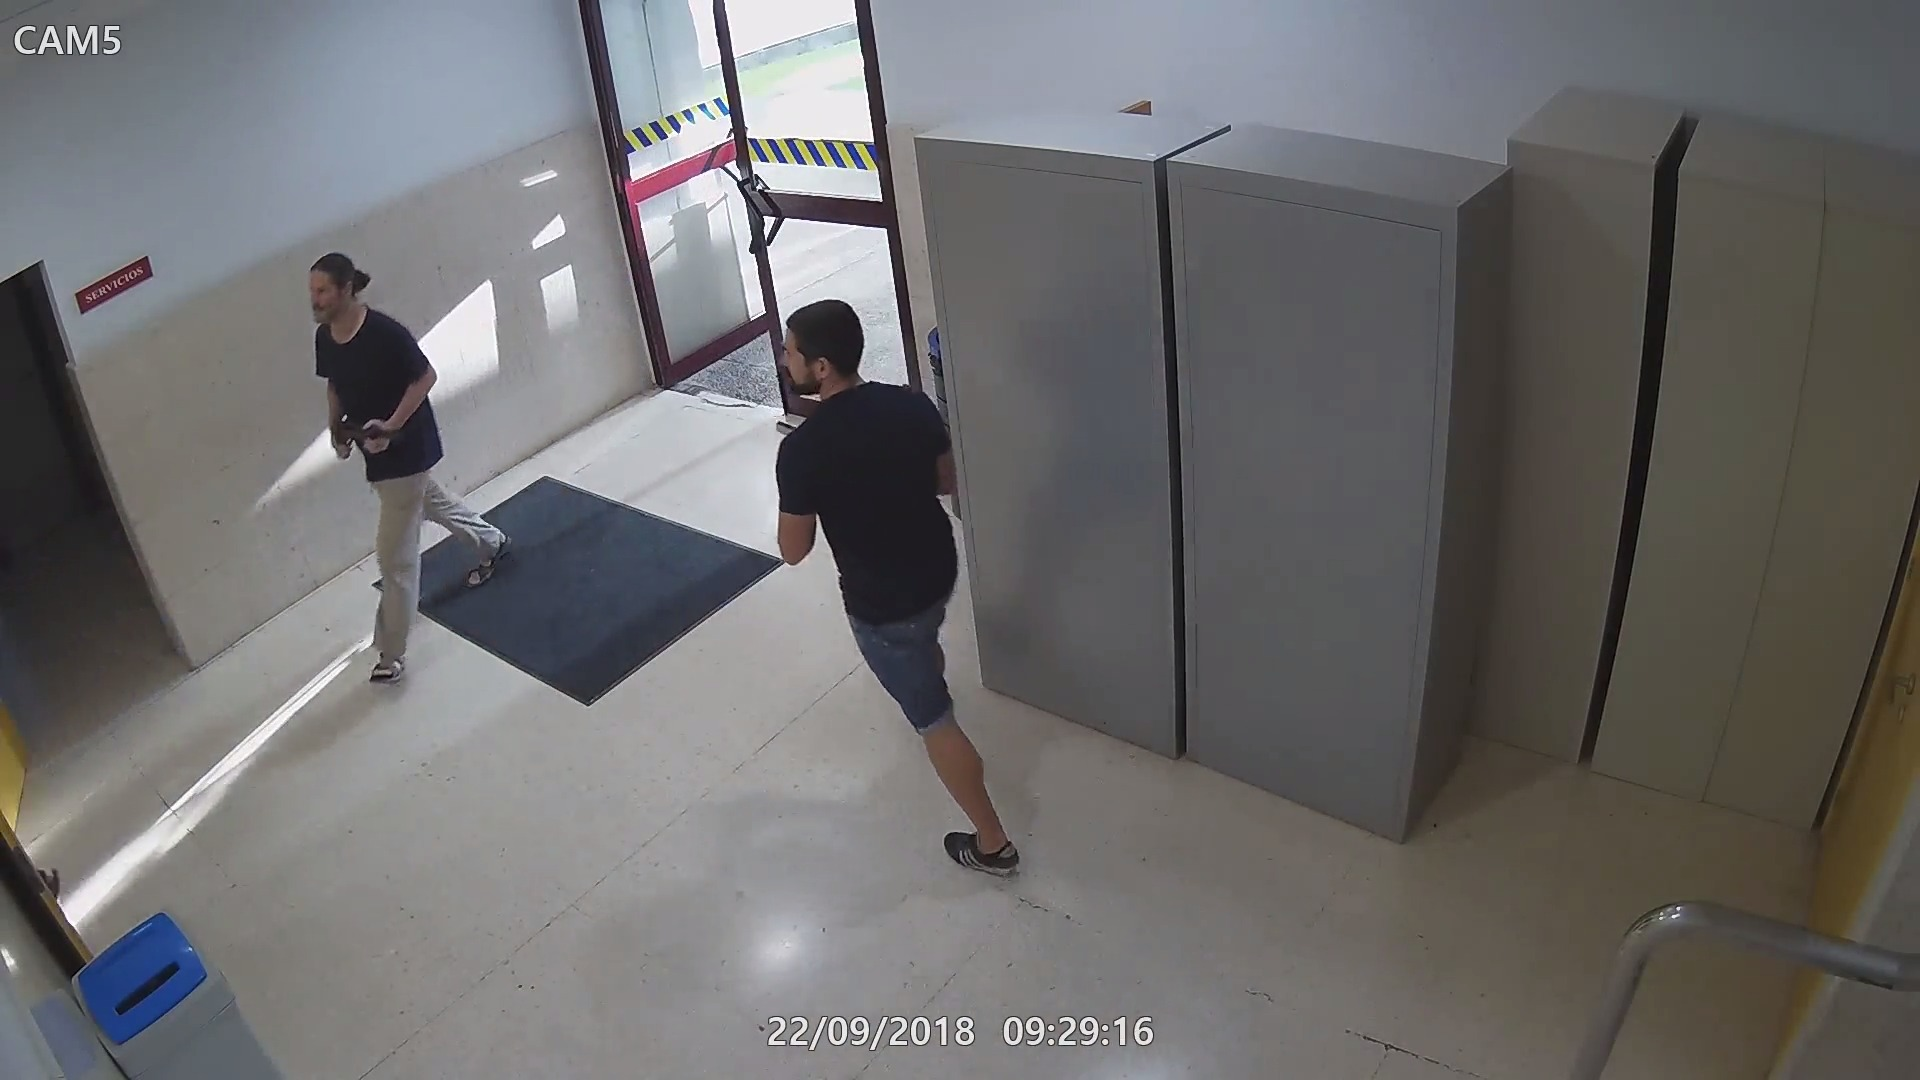rifle: (327, 413, 419, 462)
